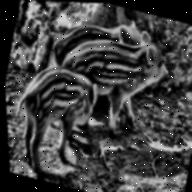boar: (40, 21, 192, 152), (3, 53, 120, 192)
